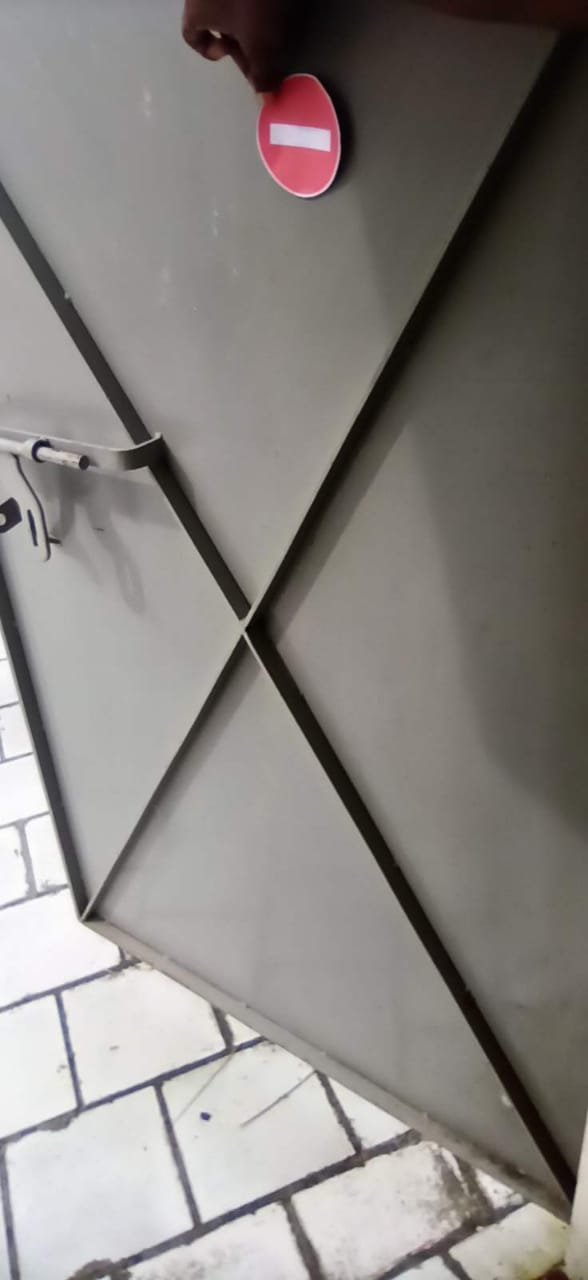NO ENTRY: (221, 54, 366, 210)
